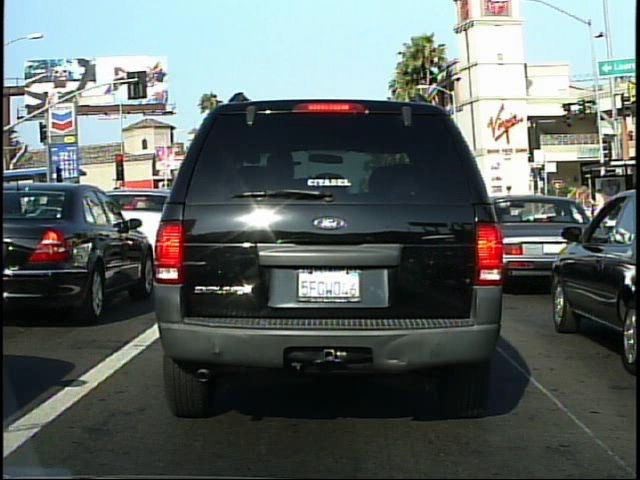person: (589, 183, 610, 244)
